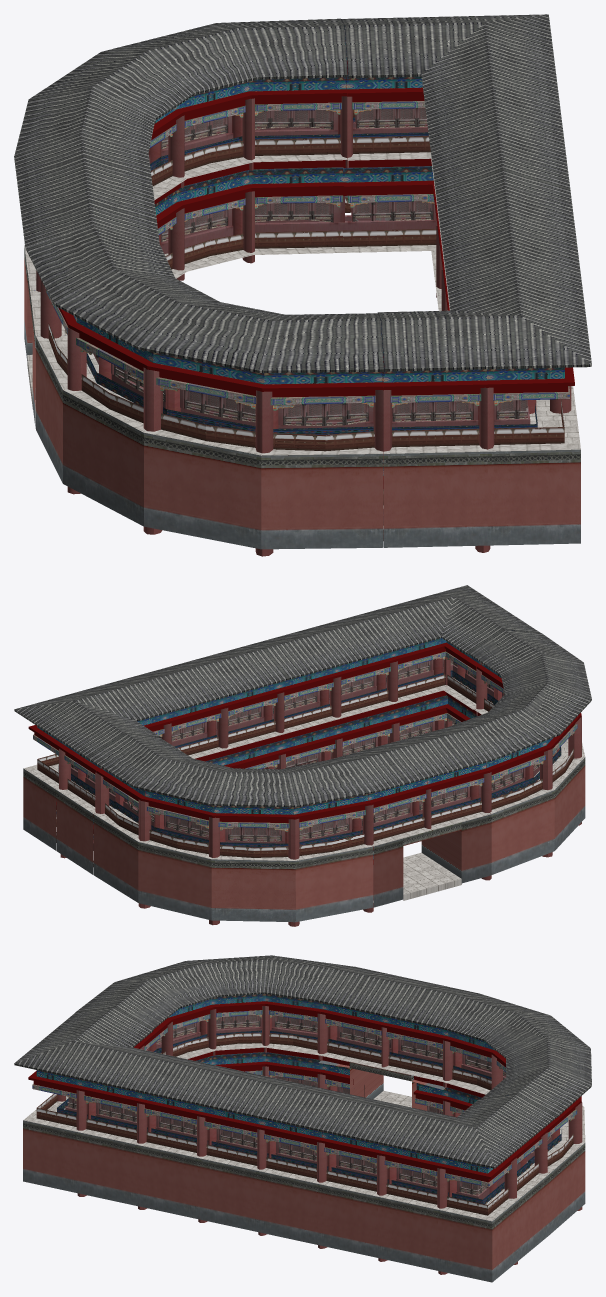
The model's file is 阅古楼.FBX.
3 views of the same model, one above another, from view 1: azimuth 30°, elevation 25°; view 2: azimuth 150°, elevation 25°; view 3: azimuth 270°, elevation 25° (orthographic). The views are drawn at different scales.
Visible parts, largest first — view 1: Group234, Box017, Rectangle2213, Rectangle2214, Rectangle2222, Rectangle2215, Rectangle2221, 对象001; view 2: Group234, Box017, Rectangle2216, Rectangle2217, Rectangle2215, Rectangle2214, Rectangle2213; view 3: Box017, Group234, Rectangle2217, Rectangle2216, Rectangle2215.
Part boxes in pixels (x1=…): Group234: x1=14, y1=18, x2=391, y2=556; Box017: x1=341, y1=14, x2=591, y2=552; Rectangle2213: x1=255, y1=137, x2=374, y2=451; Rectangle2214: x1=161, y1=141, x2=255, y2=447; Rectangle2222: x1=255, y1=230, x2=346, y2=248; Rectangle2215: x1=81, y1=160, x2=172, y2=423; Rectangle2221: x1=184, y1=233, x2=243, y2=263; 对象001: x1=346, y1=245, x2=441, y2=508; Group234: x1=87, y1=629, x2=591, y2=926; Box017: x1=14, y1=585, x2=540, y2=874; Rectangle2216: x1=299, y1=779, x2=542, y2=855; Rectangle2217: x1=373, y1=801, x2=481, y2=841; Rectangle2215: x1=220, y1=748, x2=573, y2=857; Rectangle2214: x1=149, y1=829, x2=208, y2=854; Rectangle2213: x1=105, y1=698, x2=494, y2=835; Box017: x1=14, y1=1007, x2=556, y2=1282; Group234: x1=75, y1=955, x2=591, y2=1233; Rectangle2217: x1=327, y1=1042, x2=442, y2=1077; Rectangle2216: x1=269, y1=1033, x2=491, y2=1090; Rectangle2215: x1=216, y1=1032, x2=261, y2=1046.
Bounding box in the file's own units: 2372 × 729 × 2735.
